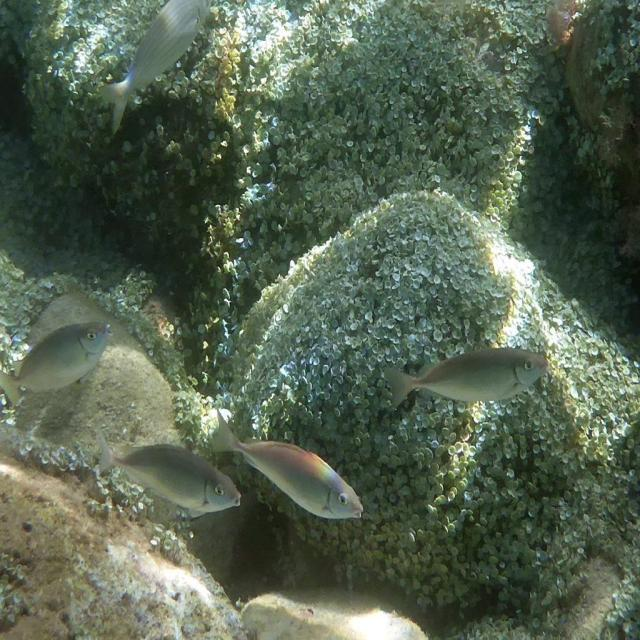Sokar Baligi: (83, 427, 245, 523), (376, 339, 561, 410), (0, 314, 119, 412)
